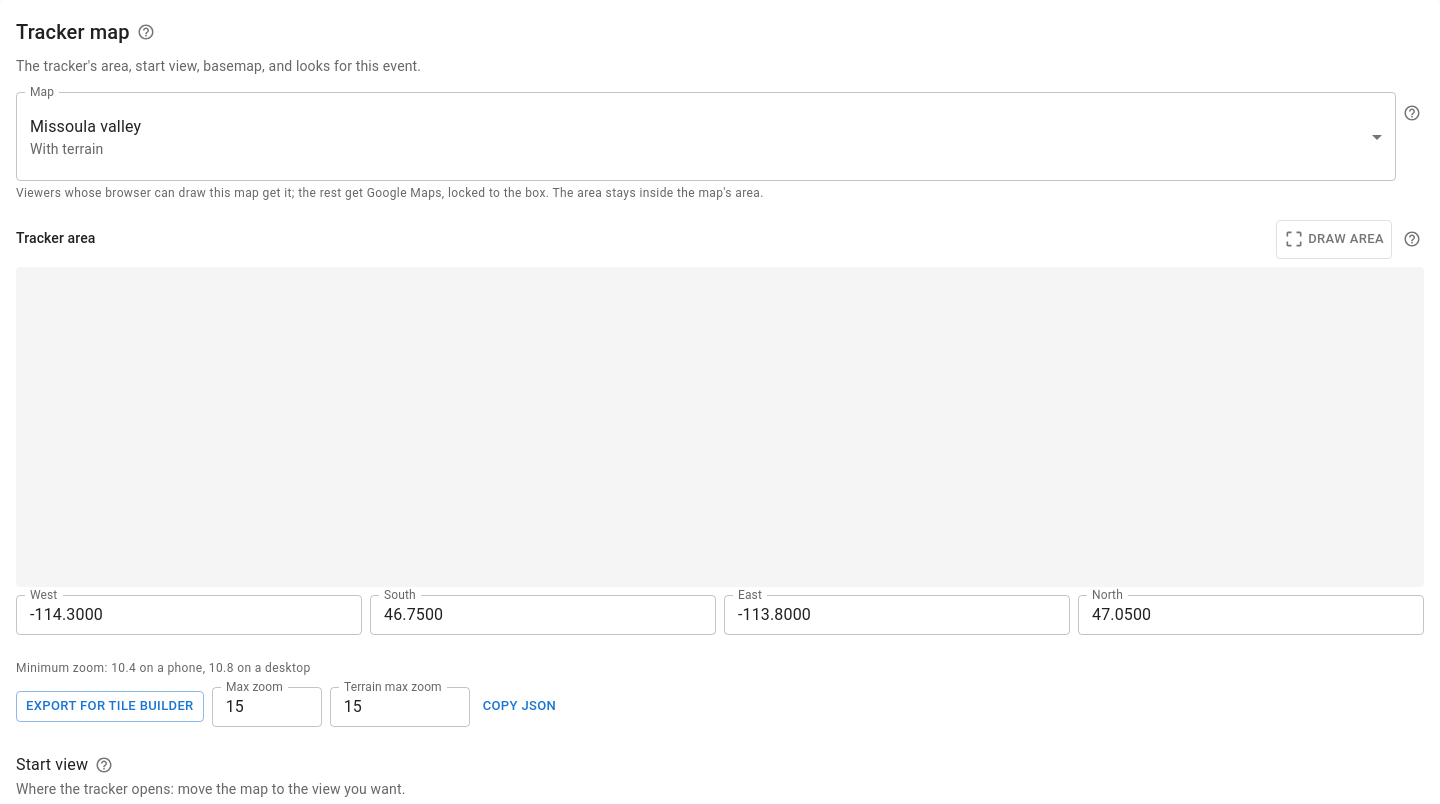
Test: TrackerMapSection › keeps the box inside the chosen map: a side typed past its edge names the map and moves onto it
Expected: the dropdown shows "Missoula valley", [30,116,141,156]
Replace the text in the number field labelled "West" with "-115" at {"x": 189, "y": 615}, box [16,595,362,635]
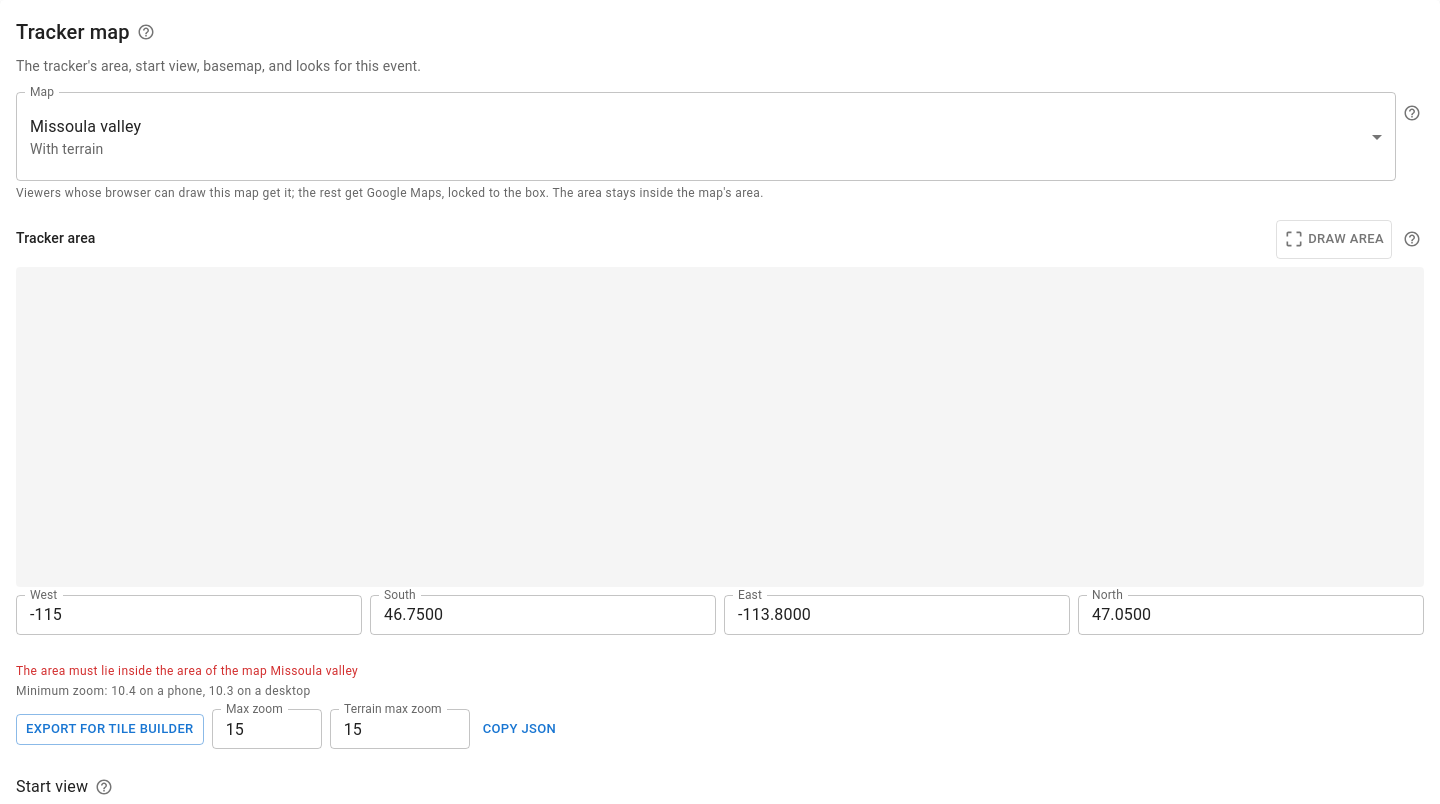
Result: the text with test id "bbox-outside" reads "The area must lie inside the area of the map Missoula valley" at [16,664,358,678]
Leave the number field labelled "West", box [16,595,362,635]
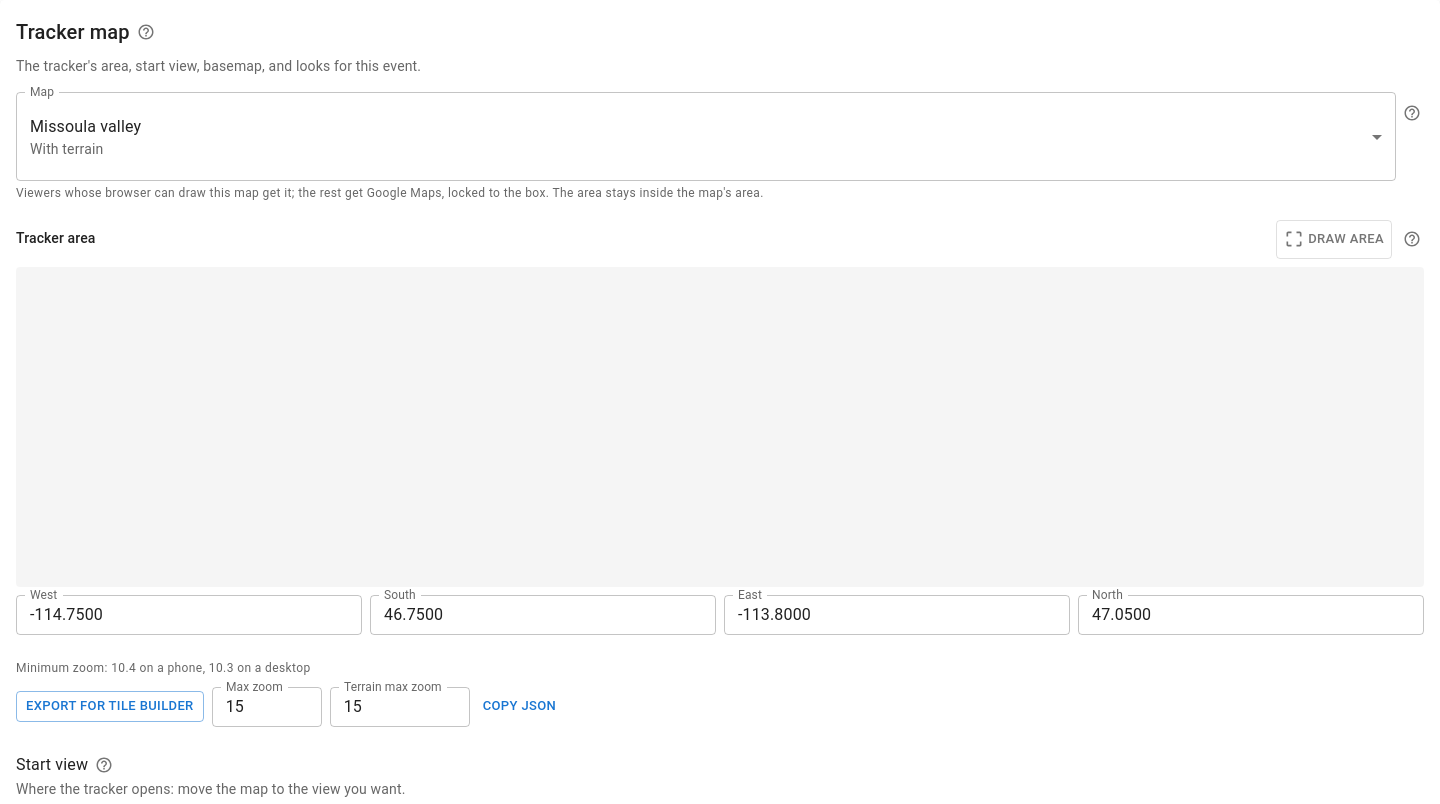
Result: the text with test id "bbox-outside" is gone
